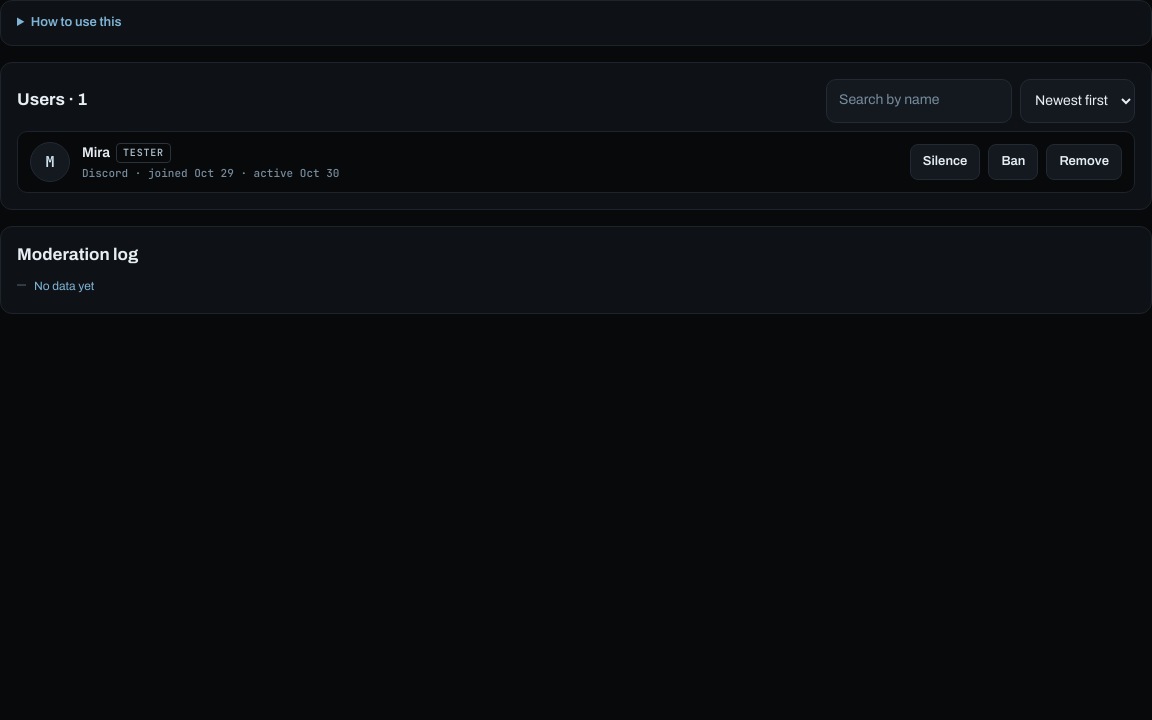
Test: Owner console → Users (T60b) › shows the server’s refusal instead of pretending it worked
Click the button with aria-label "Silence: Mira" at point(945, 162), box [910,144,980,180]
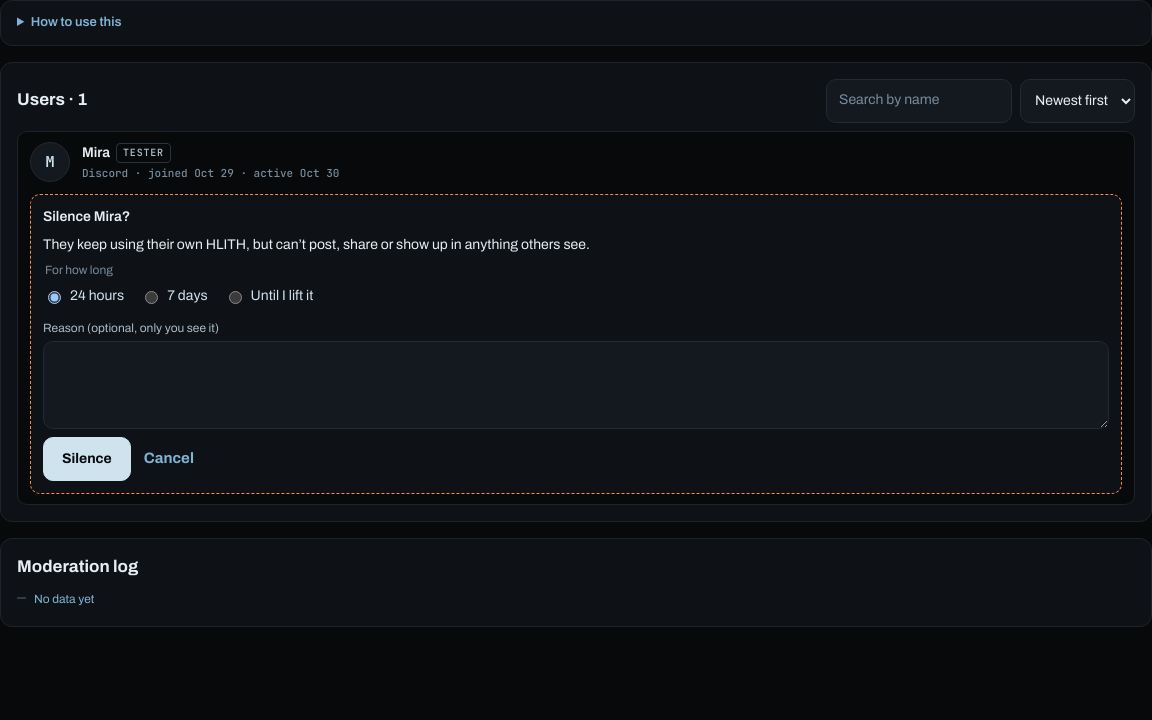
Click the button "Silence" at point(87, 459), box [43,437,131,481]
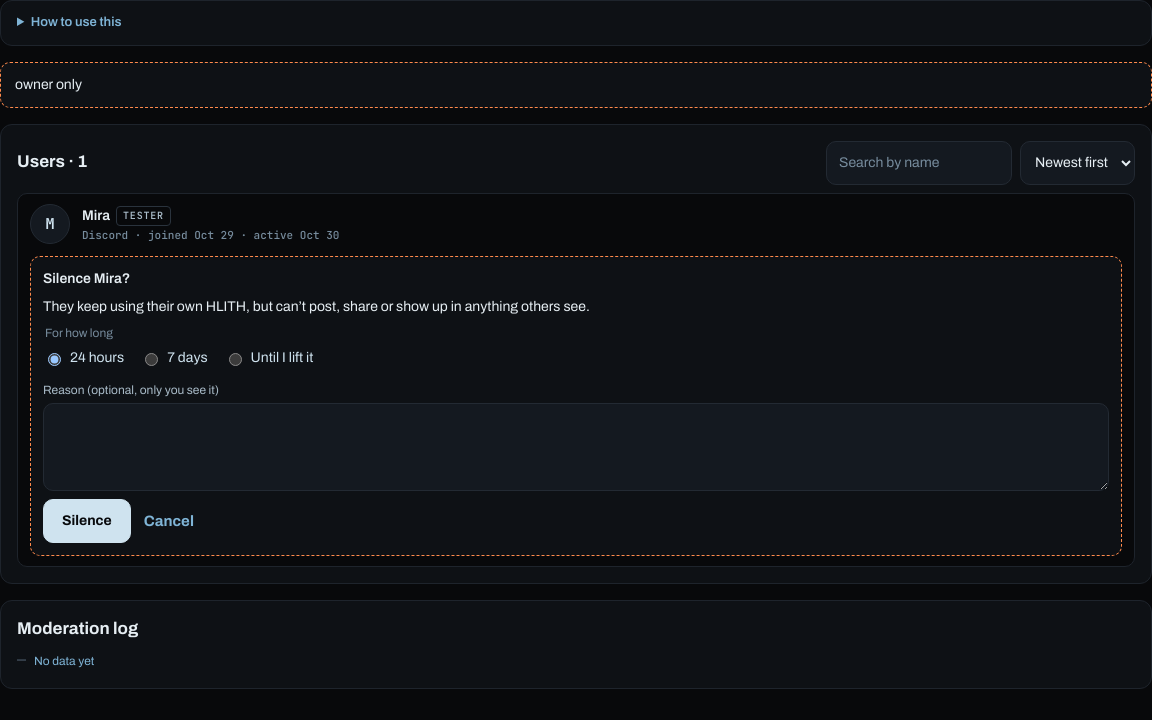
Now the message reads "owner only", box [15,76,82,92]
